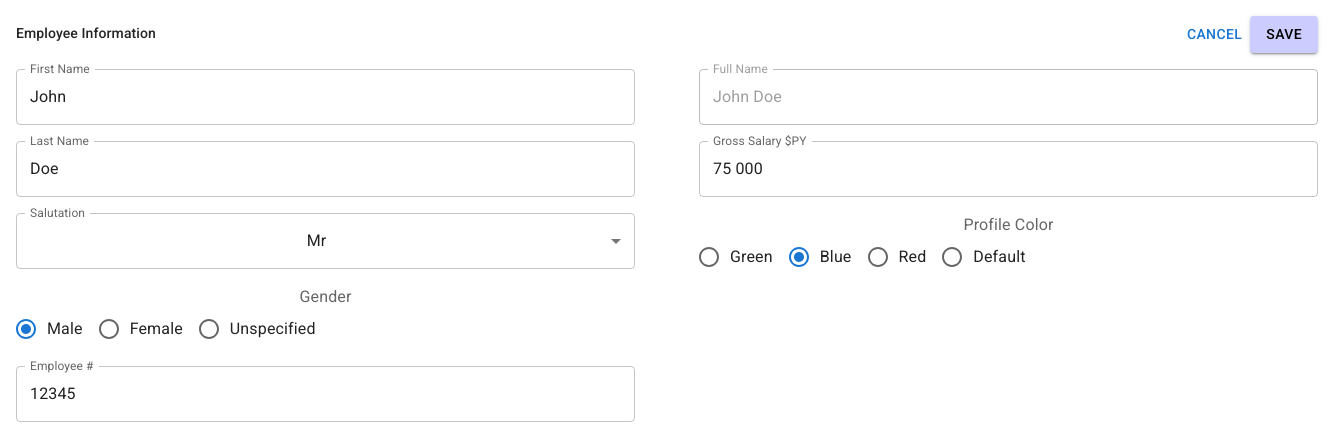
Form Reset Functionality › should reset form to employee data when Cancel is clicked with employee
Change form data
Replace the text in the field labelled "First Name" with "Jane" at (326, 96), box [16,68,635,124]
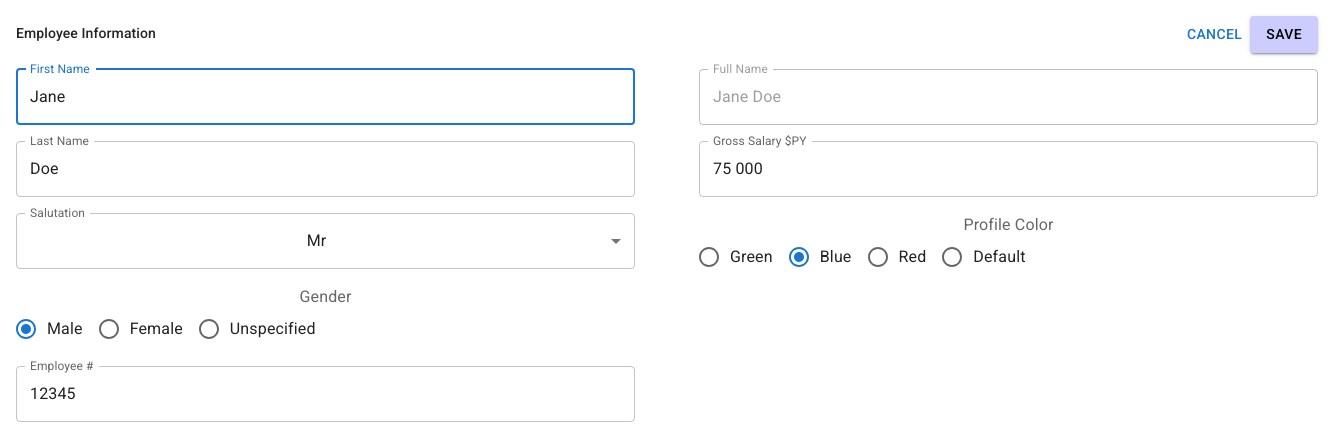
Click Cancel
Click the button "Cancel" at (1215, 34), box [1179,16,1250,52]
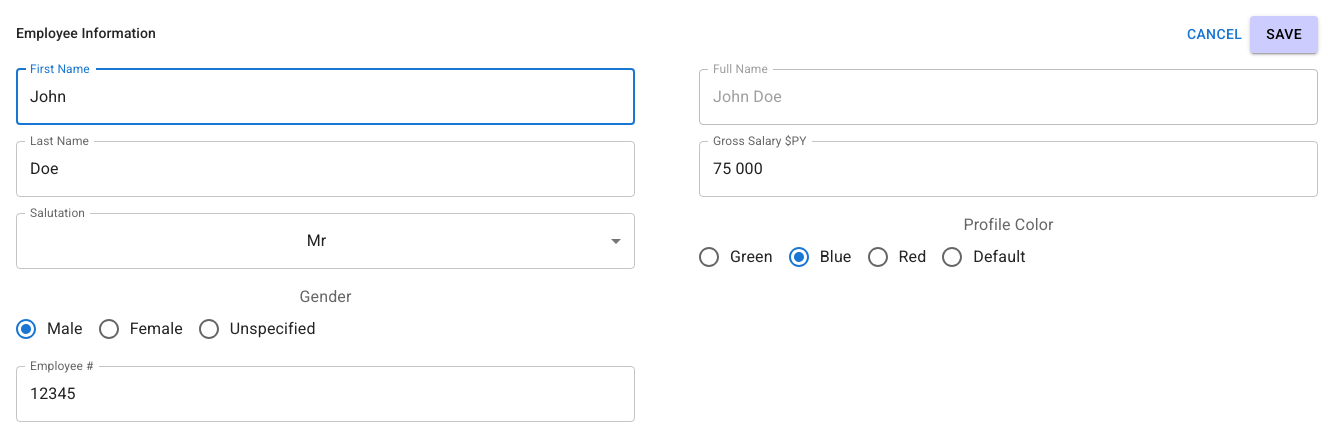
Check: the field labelled "First Name" holds "John", box [16,68,635,124]
